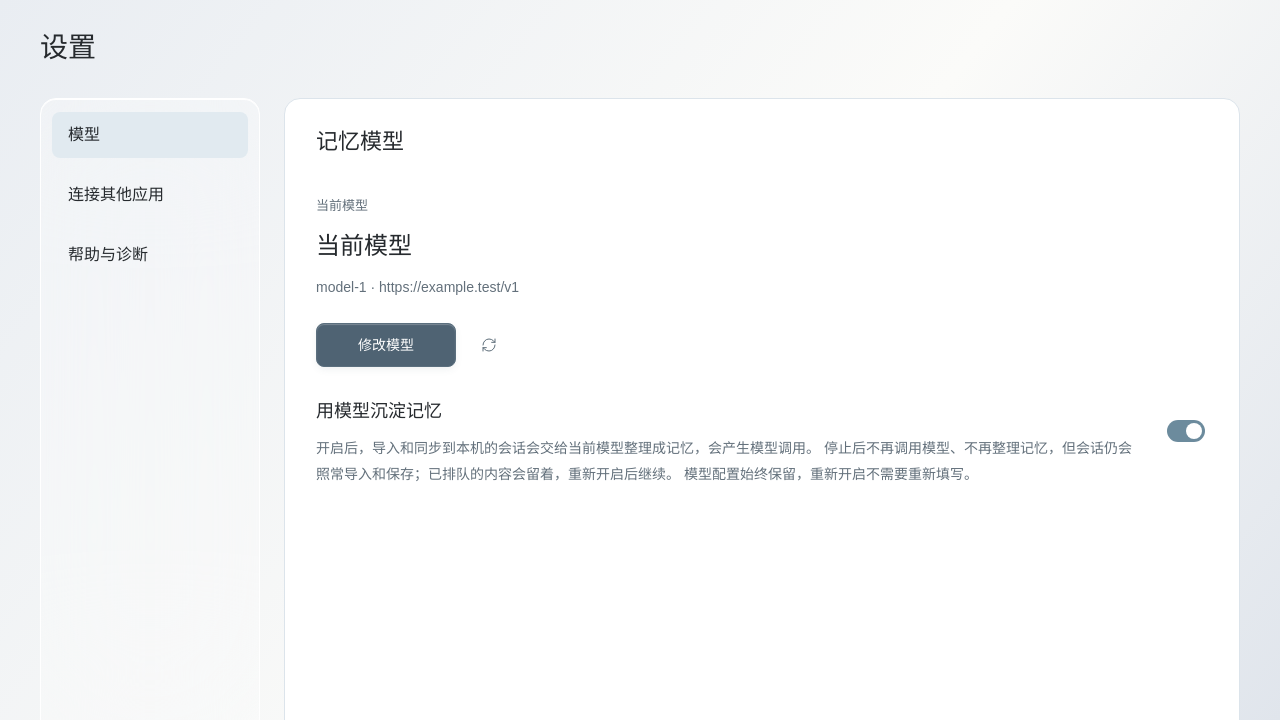
it: reports a stop that did not confirm instead of showing it stopped
Click the switch named "用模型沉淀记忆".
click(1186, 431)  # box [1164,409,1208,453]
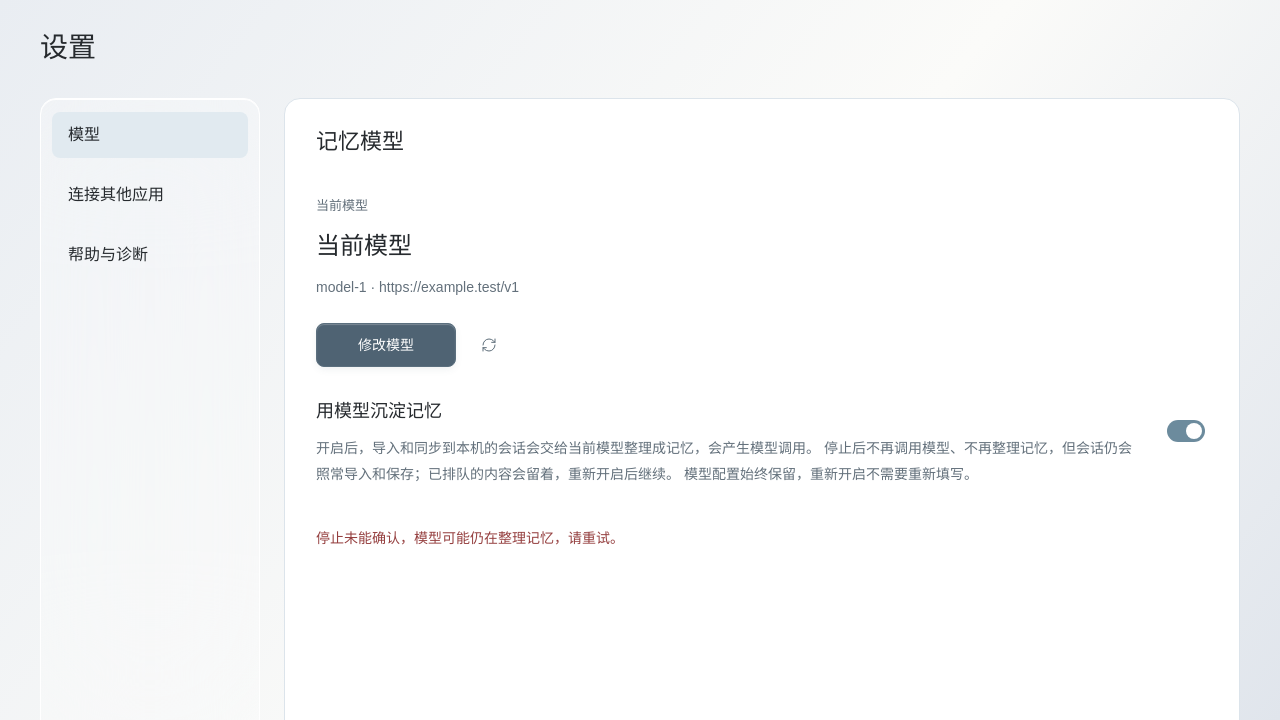
Check: the heading "当前模型" is shown, box [316,232,412,259]
Check: the message reads "停止未能确认，模型可能仍在整理记忆，请重试。", box [316,530,624,546]
